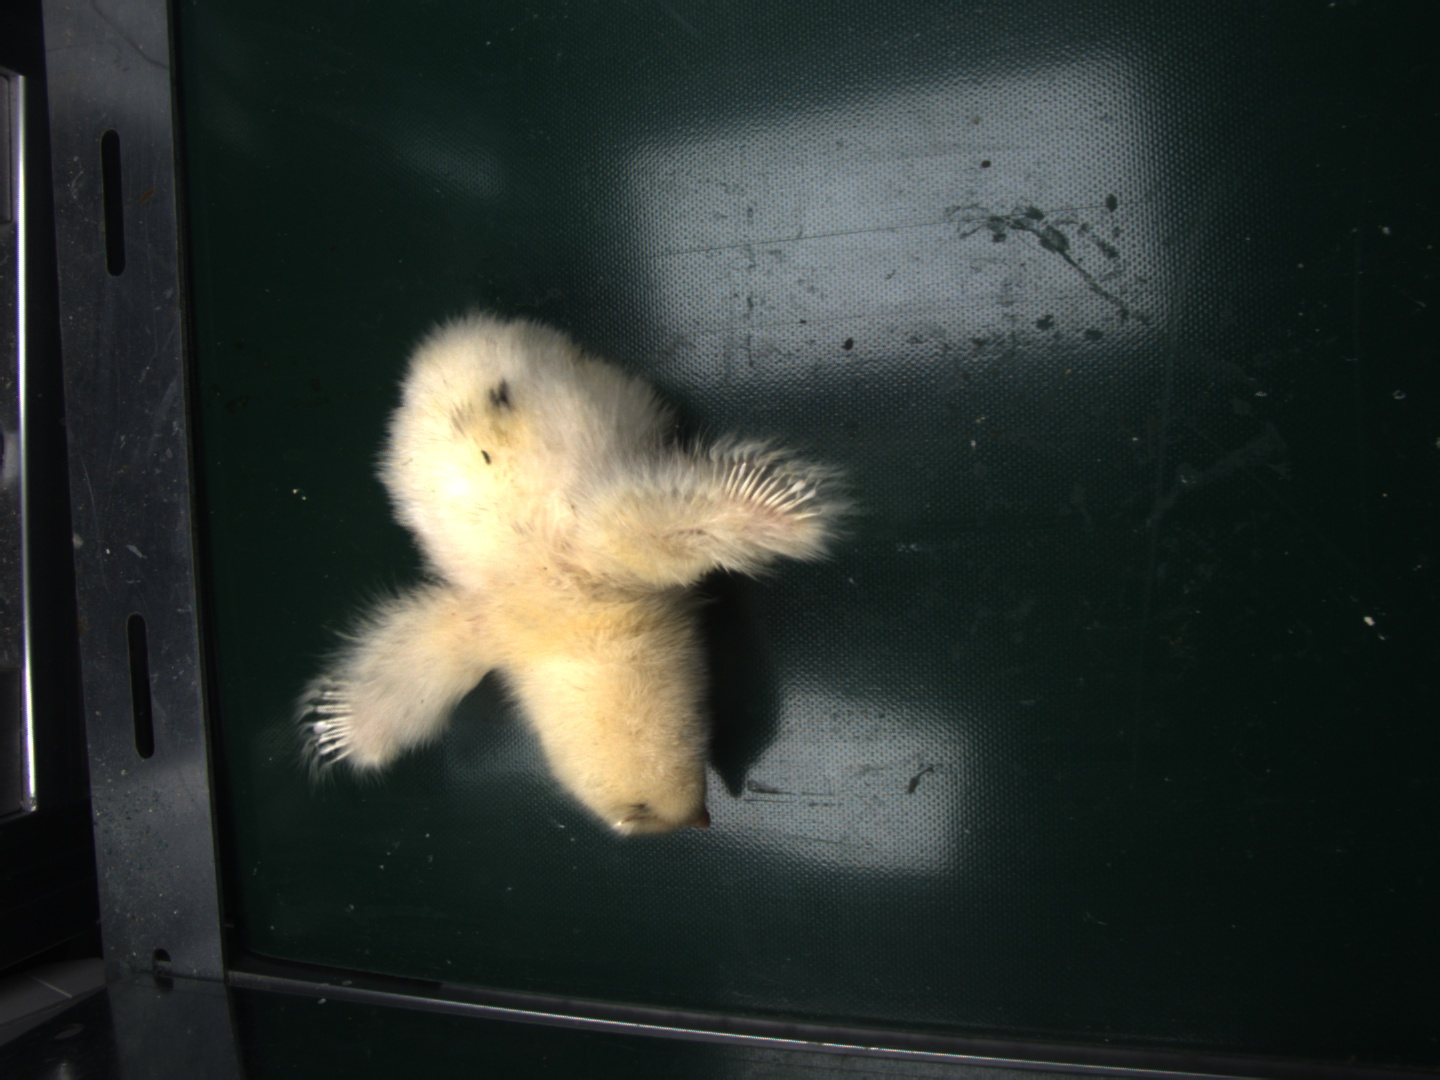male: (723, 456, 818, 518)
